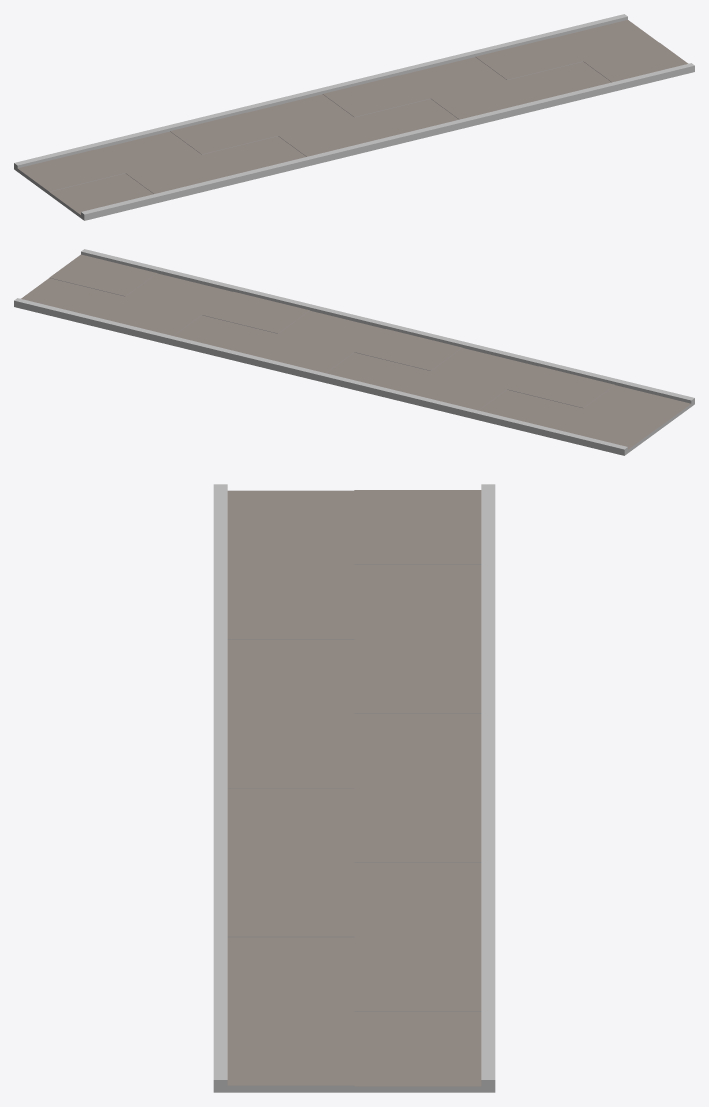
Rendered from Walkway.fbx.
3 renders of one model, top to bottom at view 1: azimuth 30°, elevation 25°; view 2: azimuth 150°, elevation 25°; view 3: azimuth 270°, elevation 25°, orthographic. The views are drawn at different scales.
Visible parts, largest first — view 1: Walkway; view 2: Walkway; view 3: Walkway.
Part boxes in pixels (x1=…): Walkway: x1=14, y1=14, x2=694, y2=220; Walkway: x1=14, y1=249, x2=694, y2=455; Walkway: x1=213, y1=484, x2=495, y2=1092.
Size of the model in its own units: 10 by 0.1 by 2.
